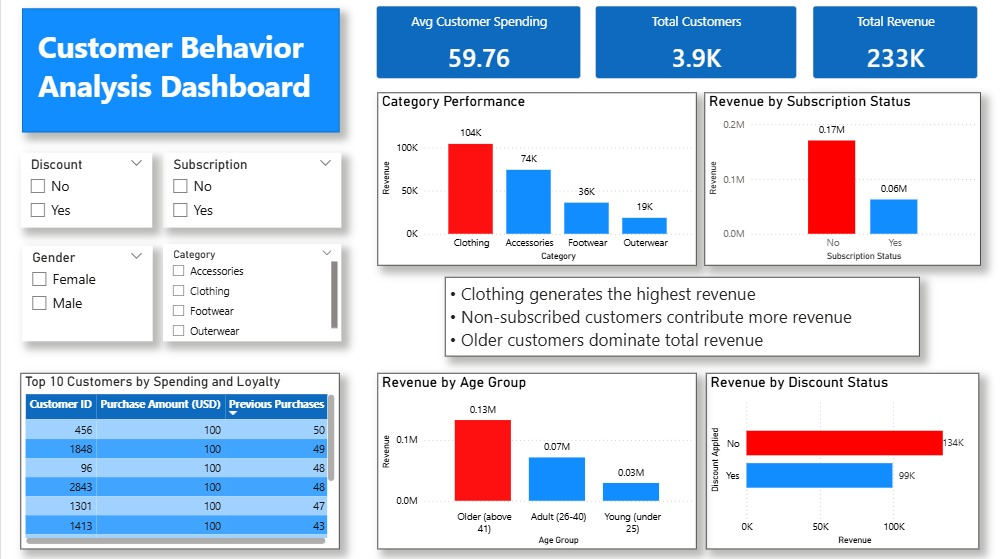

Layout of this report page (visuals, bound fields, positions):
{"tool":"powerbi","page":{"name":"Page 1","canvas":[1280,720],"ordinal":0},"visuals":[{"type":"cardVisual","title":"Total Revenue","fields":{"Data":["Sum(customer_details.Purchase Amount (USD))"]},"box":[1006,0,242,126],"z":0},{"type":"columnChart","title":"Category Performance","fields":{"Category":["customer_details.Category"],"Y":["Sum(customer_details.Purchase Amount (USD))"]},"box":[474,126,402,218],"z":1000},{"type":"clusteredBarChart","title":"Revenue by Discount Status","fields":{"Category":["customer_details.Discount Applied"],"Y":["Sum(customer_details.Purchase Amount (USD))"]},"box":[888,480,344,222],"z":2000},{"type":"clusteredColumnChart","title":"Revenue by Subscription Status","fields":{"Category":["customer_details.Subscription Status"],"Y":["Sum(customer_details.Purchase Amount (USD))"]},"box":[886,126,348,218],"z":3000},{"type":"columnChart","title":"Revenue by Age Group","fields":{"Y":["Sum(customer_details.Purchase Amount (USD))"],"Category":["customer_details.Age Group"]},"box":[474,480,402,222],"z":4000},{"type":"tableEx","title":"Top 10 Customers by Spending and Loyalty","fields":{"Values":["customer_details.Customer ID","customer_details.Purchase Amount (USD)","customer_details.Previous Purchases"]},"box":[24,480,402,222],"z":5000},{"type":"cardVisual","title":"Total Revenue","fields":{"Data":["Avg(customer_details.Purchase Amount (USD))"]},"box":[456,0,292,126],"z":6000},{"type":"cardVisual","title":"Total Revenue","fields":{"Data":["CountNonNull(customer_details.Customer ID)"]},"box":[732,0,288,126],"z":7000},{"type":"shape","box":[26,20,400,156],"z":8000},{"type":"textbox","box":[42,38,366,122],"z":9000},{"type":"slicer","fields":{"Values":["customer_details.Gender"]},"box":[26.5,319.4,164.4,120.9],"z":10000},{"type":"slicer","fields":{"Values":["customer_details.Subscription Status"]},"box":[204.1,202.2,224.9,94.5],"z":11000},{"type":"slicer","fields":{"Values":["customer_details.Category"]},"box":[204.1,317.5,224.9,122.8],"z":12000},{"type":"slicer","fields":{"Values":["customer_details.Discount Applied"]},"box":[24.6,202.2,166.3,94.5],"z":13000},{"type":"textbox","box":[560,360,598,100],"z":14000}]}

Visuals, with their boxes in screenshot pixels (x1, y1, x2, y2), scaled from the page's 1280x720 canvas onto the 1008x559 screenshot:
"Total Revenue" cardVisual: (left=792, top=0, right=983, bottom=98)
"Category Performance" columnChart: (left=373, top=98, right=690, bottom=267)
"Revenue by Discount Status" clusteredBarChart: (left=699, top=373, right=970, bottom=545)
"Revenue by Subscription Status" clusteredColumnChart: (left=698, top=98, right=972, bottom=267)
"Revenue by Age Group" columnChart: (left=373, top=373, right=690, bottom=545)
"Top 10 Customers by Spending and Loyalty" tableEx: (left=19, top=373, right=335, bottom=545)
"Total Revenue" cardVisual: (left=359, top=0, right=589, bottom=98)
"Total Revenue" cardVisual: (left=576, top=0, right=803, bottom=98)
shape: (left=20, top=16, right=335, bottom=137)
textbox: (left=33, top=30, right=321, bottom=124)
slicer - customer_details.Gender: (left=21, top=248, right=150, bottom=342)
slicer - customer_details.Subscription Status: (left=161, top=157, right=338, bottom=230)
slicer - customer_details.Category: (left=161, top=247, right=338, bottom=342)
slicer - customer_details.Discount Applied: (left=19, top=157, right=150, bottom=230)
textbox: (left=441, top=280, right=912, bottom=357)
